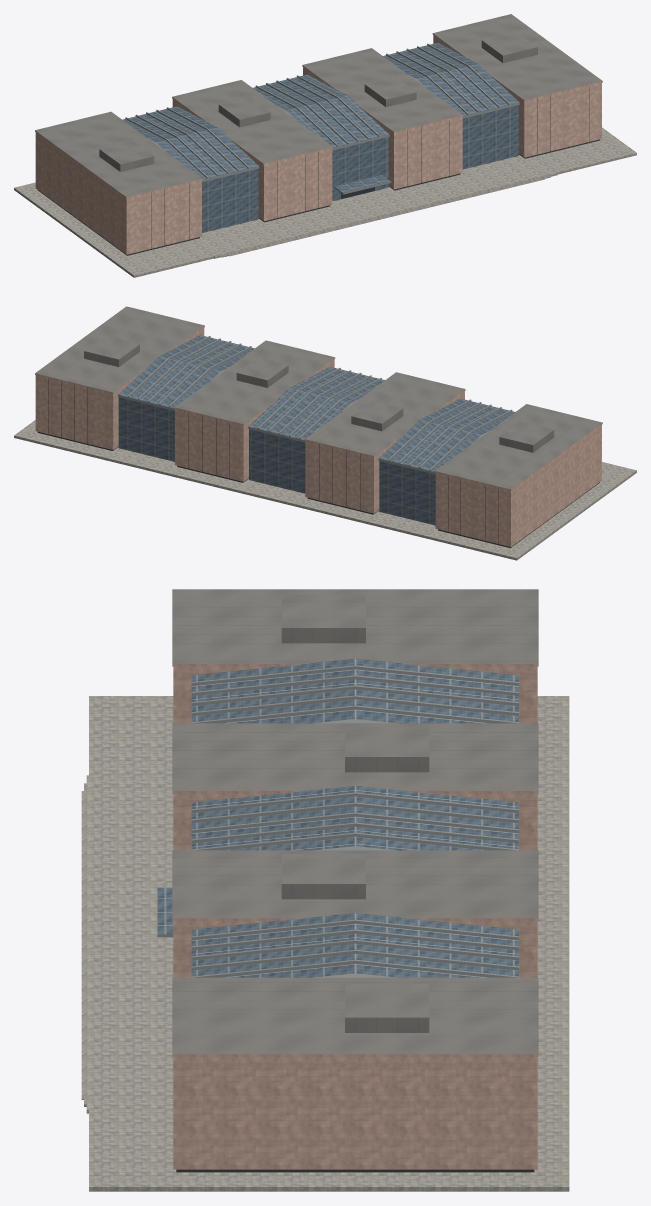
The model's file is air_and_space_museum.glb.
3 views of the same model, one above another, from view 1: azimuth 30°, elevation 25°; view 2: azimuth 150°, elevation 25°; view 3: azimuth 270°, elevation 25° (orthographic). The views are drawn at different scales.
Visible parts, largest first — view 1: air_and_space_museum; view 2: air_and_space_museum; view 3: air_and_space_museum.
Part boxes in pixels (box(x1,y1,x2,y2)): air_and_space_museum: box(14, 14, 636, 277); air_and_space_museum: box(14, 306, 636, 560); air_and_space_museum: box(81, 589, 569, 1191).
Bounding box in the file's own units: 220 × 29.19 × 92.34.
Materials: 5 (5 with a texture image).
